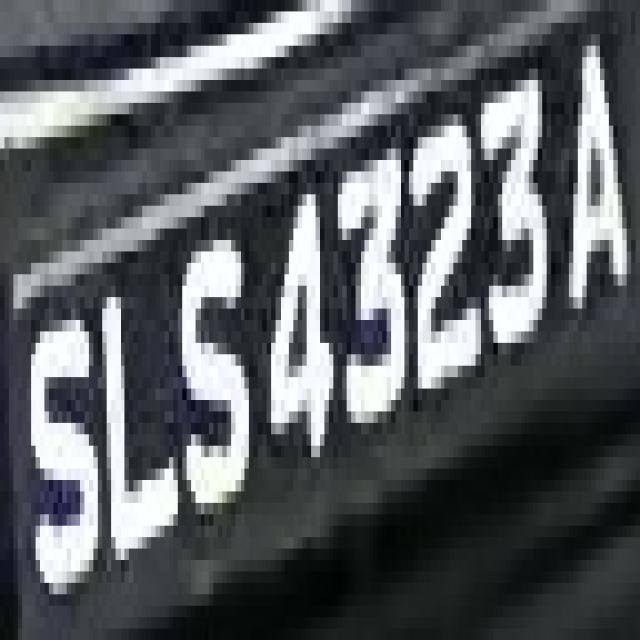2: (400, 80, 476, 411)
3: (329, 114, 409, 446), (466, 57, 546, 366)
4: (249, 160, 351, 480)
A: (551, 23, 636, 354)
L: (89, 240, 178, 571)
S: (173, 205, 258, 526), (18, 251, 98, 583)
